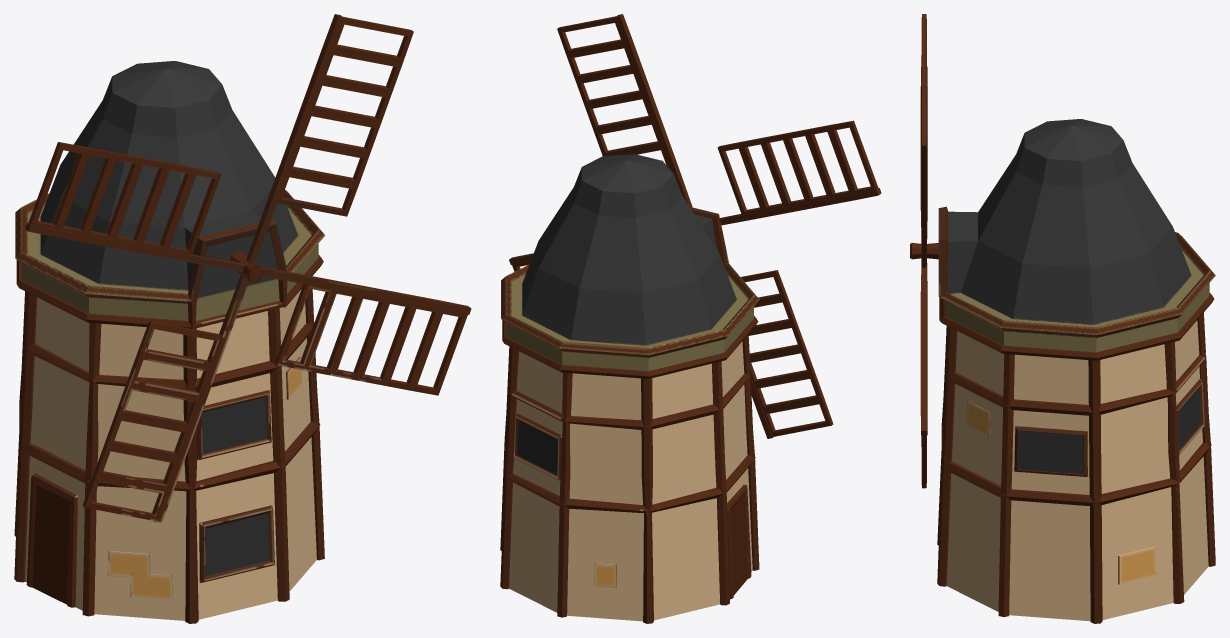
File: Windmill.fbx
The picture shows the model from 3 angles, left to right: view 1: azimuth 30°, elevation 25°; view 2: azimuth 150°, elevation 25°; view 3: azimuth 270°, elevation 25°; orthographic projection. The views are drawn at different scales.
Visible parts, largest first — view 1: Windmill, Windmill_Propeller; view 2: Windmill, Windmill_Propeller; view 3: Windmill, Windmill_Propeller.
Boxes of the visible parts, box(x1,y1,x2,y2) form: Windmill: box(14, 61, 325, 623); Windmill_Propeller: box(25, 14, 471, 523); Windmill: box(500, 154, 759, 623); Windmill_Propeller: box(509, 14, 881, 438); Windmill: box(937, 119, 1215, 623); Windmill_Propeller: box(910, 14, 938, 488).
Size of the model in its own units: 613 by 769 by 408.
Materials: 1 (1 with a texture image).
